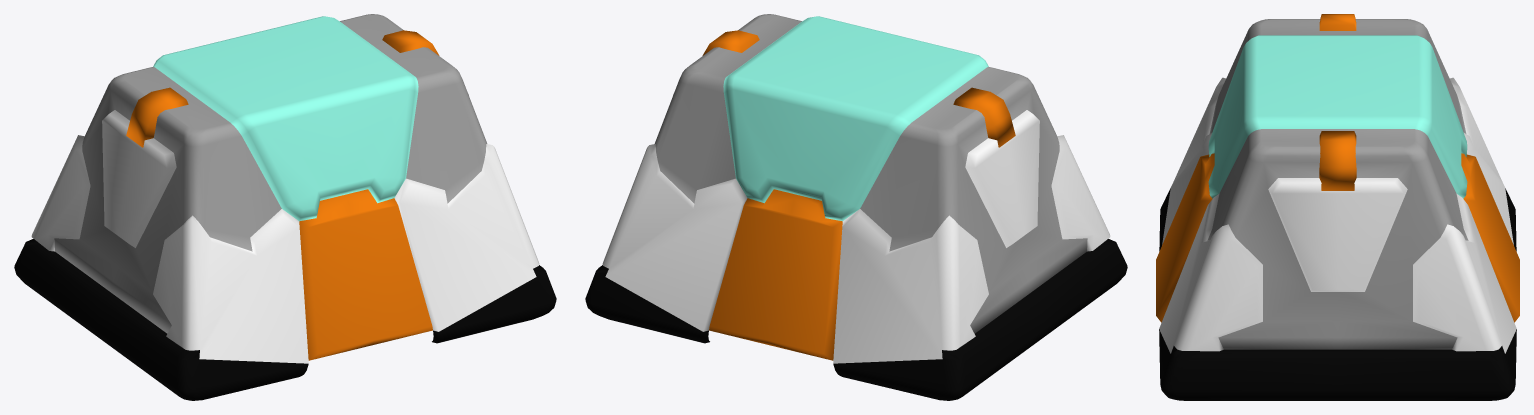
3 renders of one model, left to right at view 1: azimuth 30°, elevation 25°; view 2: azimuth 150°, elevation 25°; view 3: azimuth 270°, elevation 25°, orthographic.
Parts seen in each view (by area): view 1: polySurface3; view 2: polySurface3; view 3: polySurface3.
Boxes of the visible parts, x1,y1,x2,y2 form: polySurface3: (14,14,556,400); polySurface3: (585,14,1127,400); polySurface3: (1156,14,1519,400).
Bounding box in the file's own units: 246 × 146 × 203.
Materials: 1 (1 with a texture image).
